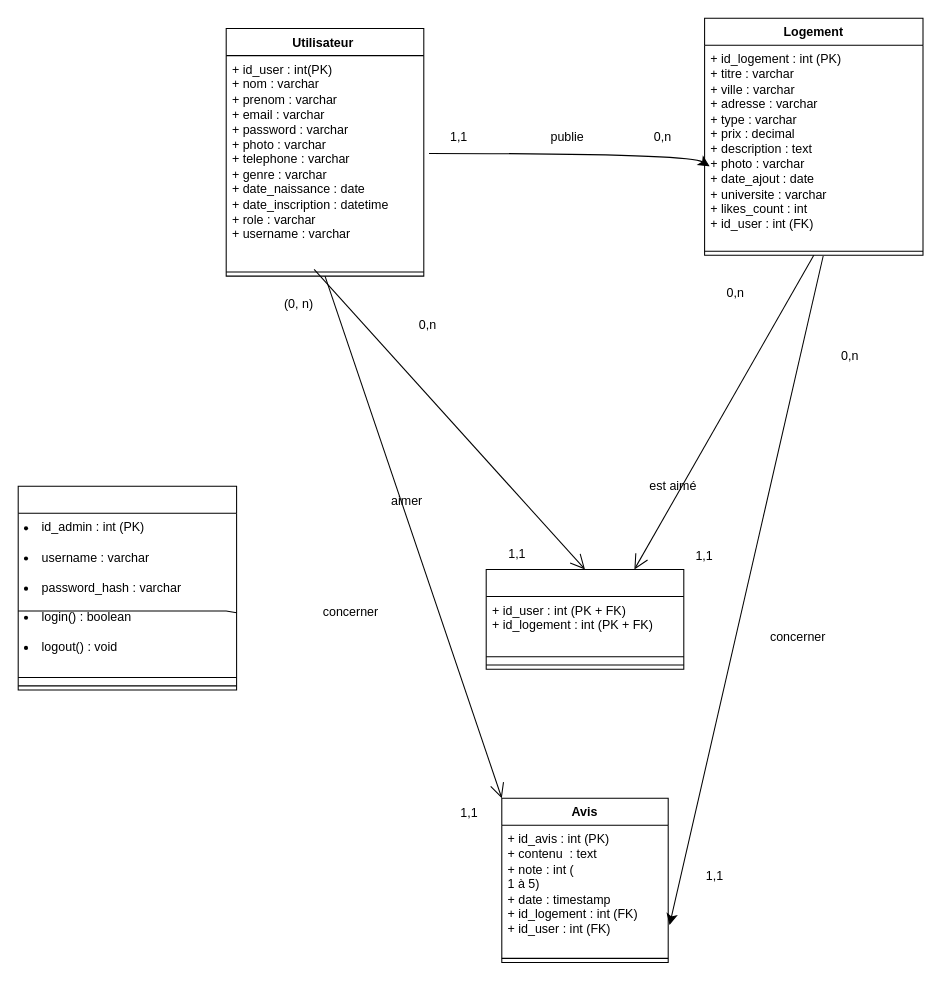
This 941x981 diagram has some shape labels left out. The shapes that lost their labels are listed below. From the top down, each one's box as (x1, y1, x2, y2) in pixels, then its label:
(17, 485, 237, 690): admin_user
(485, 568, 684, 669): UserLikes
